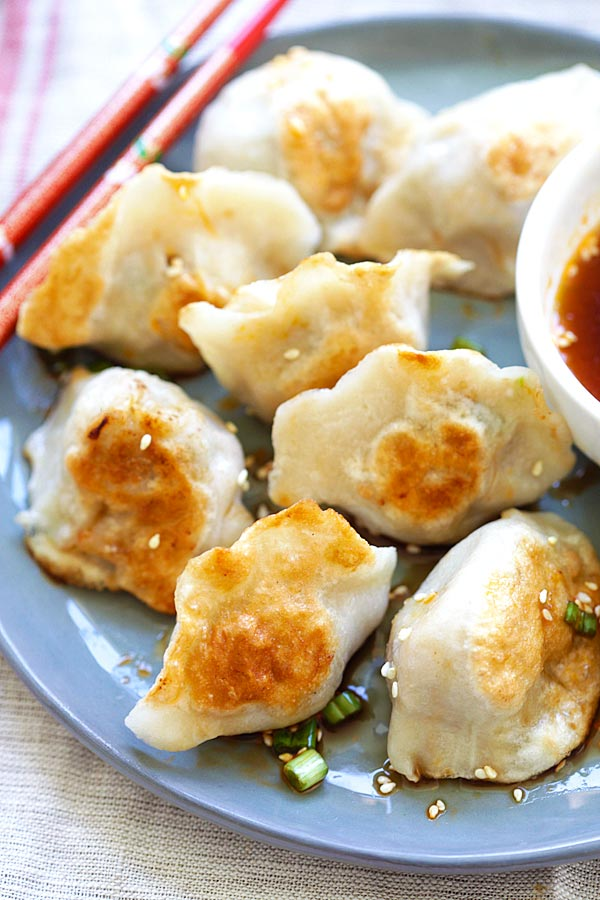fried_dumplings: (430, 530, 593, 779), (169, 537, 358, 739), (402, 44, 560, 275), (309, 357, 524, 517), (54, 371, 224, 566), (73, 187, 250, 344), (228, 55, 388, 218), (234, 258, 375, 380)
